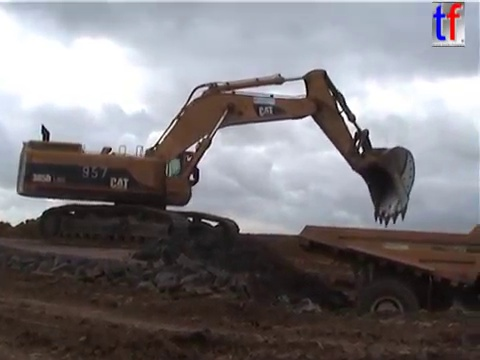excavator: (13, 66, 418, 252)
truck: (295, 221, 480, 345)
